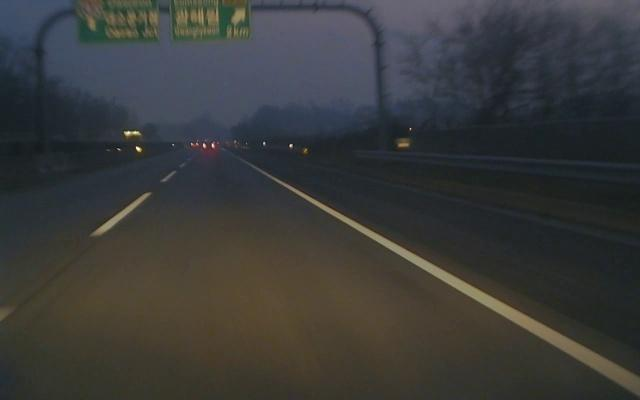lane: (239, 158, 640, 397), (89, 171, 177, 237)
